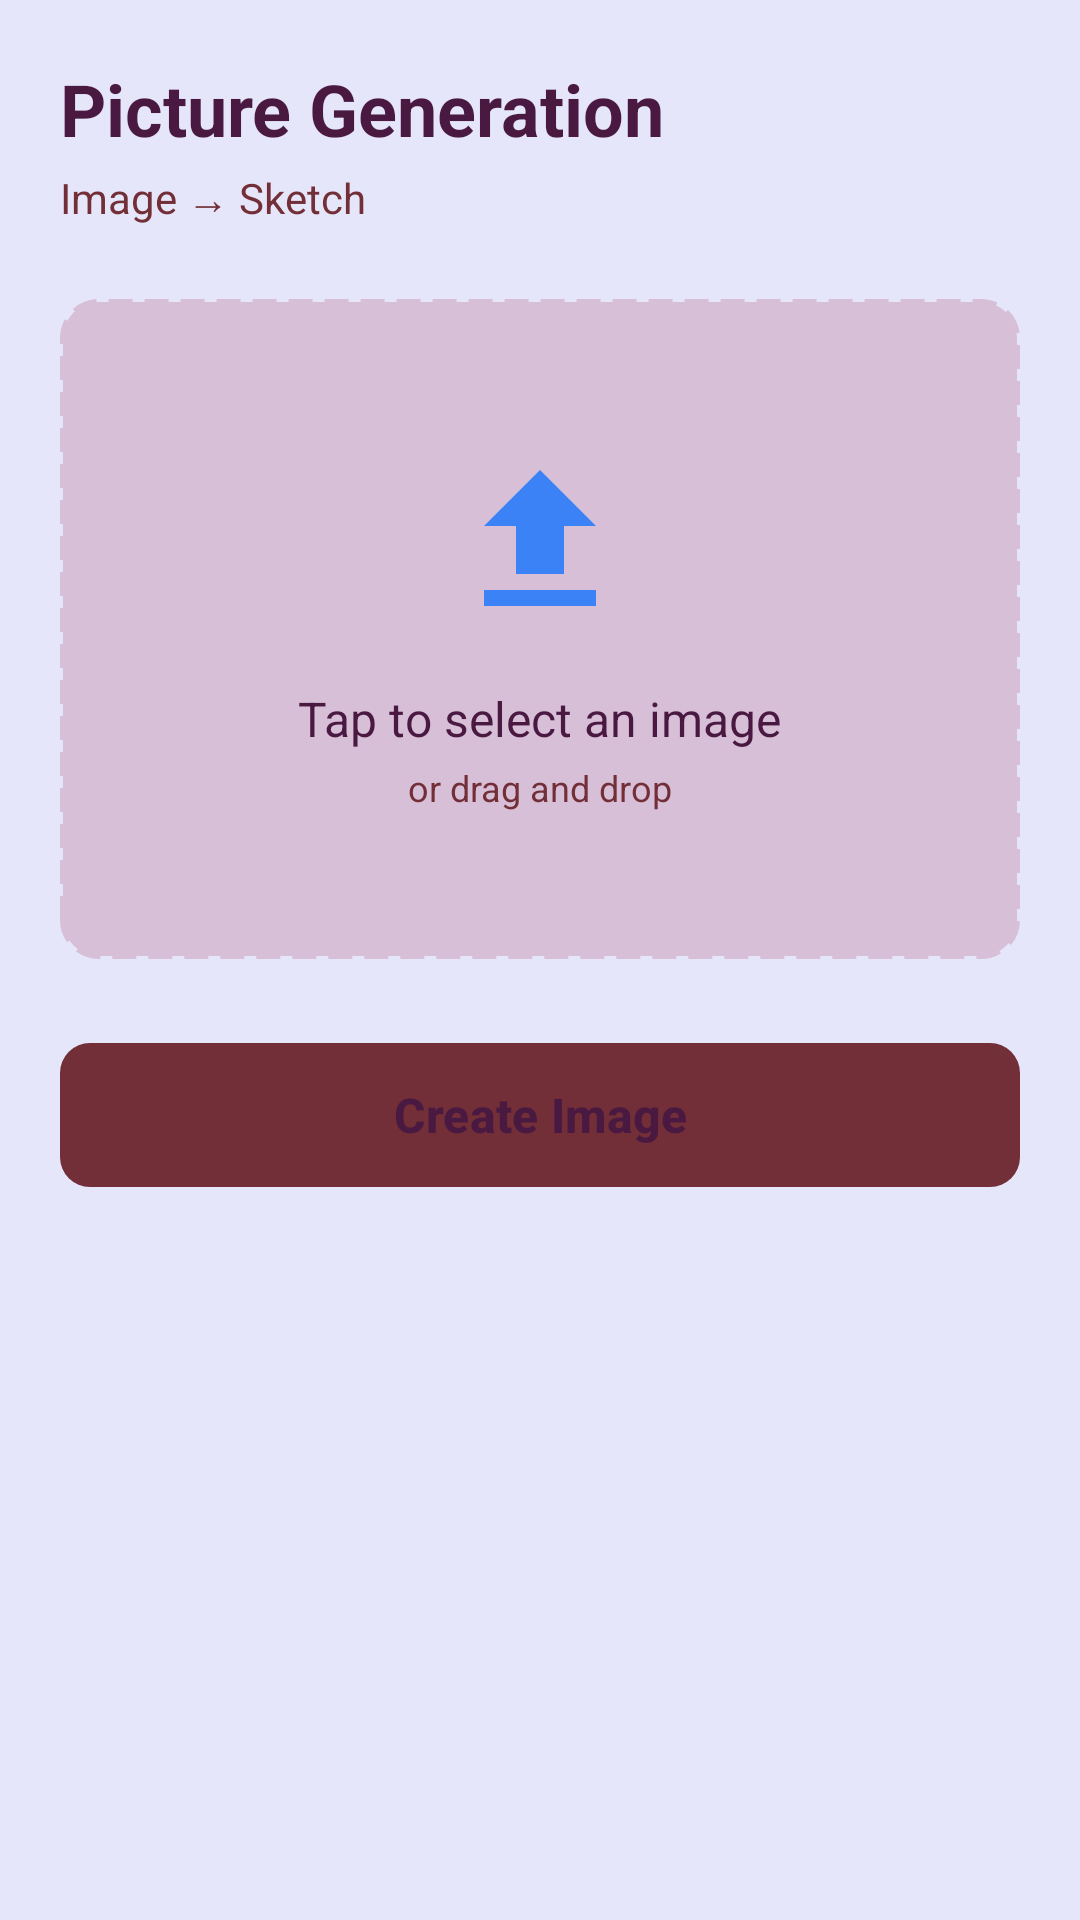

Where to tap for icons on this 1080×1920 app screen, as [x,y]:
Upload Image: [540,538]
